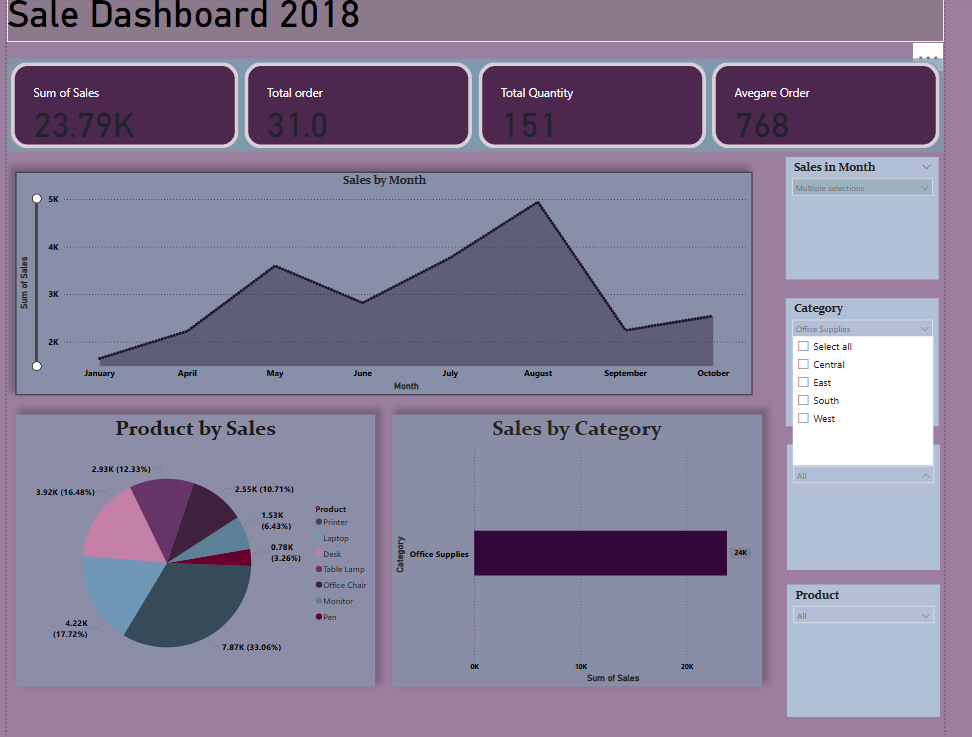

What the dashboard file says about the page in this screenshot:
{"tool":"powerbi","page":{"name":"Dashboard","canvas":[1500,1200],"ordinal":0},"visuals":[{"type":"shape","title":"Sale Dashboard 2018","box":[0,0,1500,80],"z":0},{"type":"cardVisual","fields":{"Data":["Sum(Orders__2.Sales)","Customers.Total order","Customers.total Quantity","Orders__2.Avegare Order"]},"box":[0,106,1500,150],"z":1000},{"type":"slicer","fields":{"Values":["Orders__2.Order Date.Variation.Date Hierarchy.Month","Orders__2.Sales"]},"box":[1246,264,245,196],"z":2000},{"type":"pieChart","title":"Product  by Sales","fields":{"Y":["Sum(Orders__2.Sales)"],"Category":["Orders__2.Product"]},"box":[13.3,675,575,435],"z":3000},{"type":"barChart","title":"Sales by Category","fields":{"Y":["Sum(Orders__2.Sales)"],"Category":["Orders__2.Category"]},"box":[615,675,591.7,435],"z":4000},{"type":"slicer","fields":{"Values":["Orders__2.Product"]},"box":[1247,947,245,212],"z":5000},{"type":"slicer","fields":{"Values":["Orders__2.Region"]},"box":[1247,723,245,201],"z":6000},{"type":"slicer","fields":{"Values":["Orders__2.Category"]},"box":[1246,489,245,205],"z":7000},{"type":"stackedAreaChart","title":" Sales by Month","fields":{"Category":["Orders__2.Order Date.Variation.Date Hierarchy.Month"],"Y":["Sum(Orders__2.Sales)"]},"box":[13.3,288.3,1178.3,356.7],"z":8000}]}

Visuals, with their boxes on the page's 1500x1200 design canvas (x1, y1, x2, y2). These are canvas units, not pixel positions in the 972x737 screenshot, which may show the page scaled, cropped or inside an application window:
"Sale Dashboard 2018" shape: box=[0, 0, 1500, 80]
cardVisual - Sum(Orders__2.Sales) x Customers.Total order: box=[0, 106, 1500, 256]
slicer - Orders__2.Order Date.Variation.Date Hierarchy.Month x Orders__2.Sales: box=[1246, 264, 1491, 460]
"Product  by Sales" pieChart: box=[13, 675, 588, 1110]
"Sales by Category" barChart: box=[615, 675, 1207, 1110]
slicer - Orders__2.Product: box=[1247, 947, 1492, 1159]
slicer - Orders__2.Region: box=[1247, 723, 1492, 924]
slicer - Orders__2.Category: box=[1246, 489, 1491, 694]
" Sales by Month" stackedAreaChart: box=[13, 288, 1192, 645]
